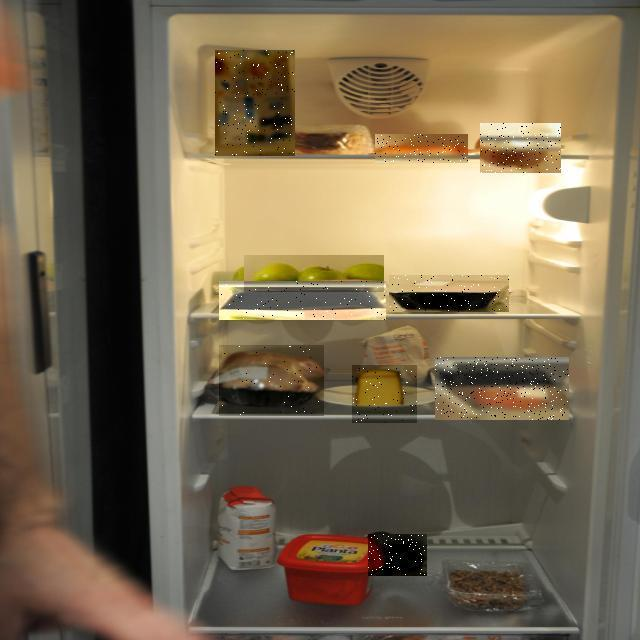Apple: (244, 255, 384, 292)
Carrot: (375, 134, 468, 163)
Cheese: (352, 365, 417, 423)
Eggs: (480, 123, 561, 173)
Lime: (368, 534, 427, 576)
Meat: (435, 357, 569, 420), (219, 345, 324, 416), (219, 281, 386, 320), (389, 275, 509, 312)
Milk: (215, 50, 295, 156)
